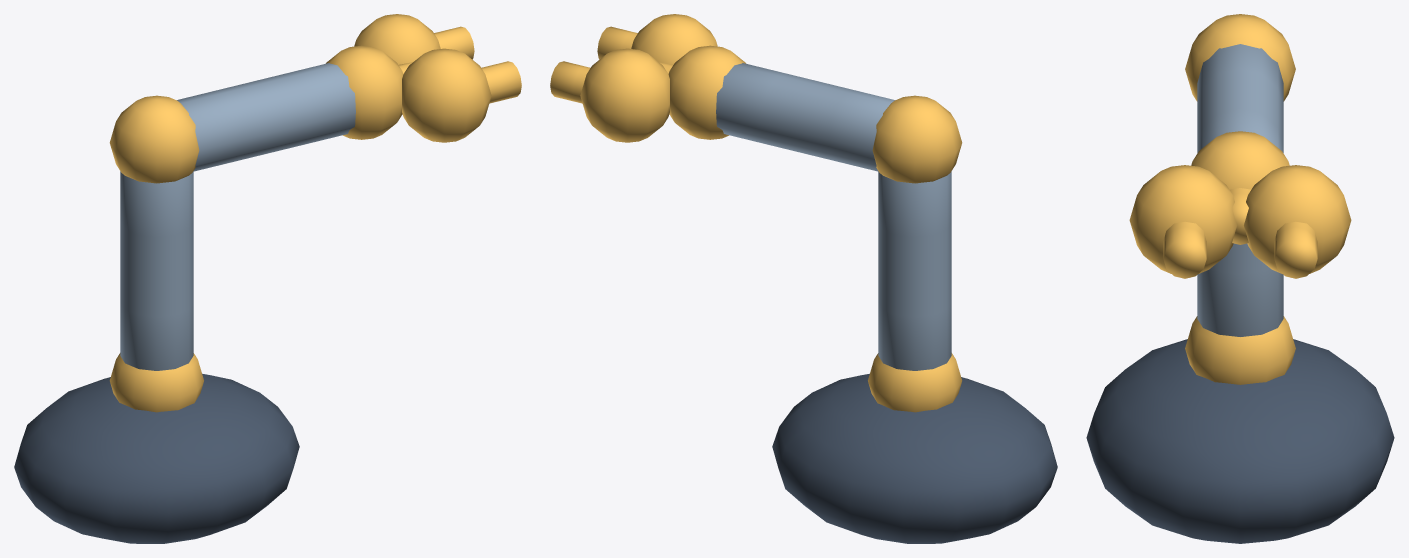
Rendered from demo-robotic-input.glb.
3 renders of one model, left to right at view 1: azimuth 30°, elevation 25°; view 2: azimuth 150°, elevation 25°; view 3: azimuth 270°, elevation 25°, orthographic. The views are drawn at different scales.
Visible parts, largest first — view 1: base-shell, shoulder-shell, elbow-shell, jaw.right-joint, elbow-joint, gripper-joint, shoulder-joint, jaw.left-joint, jaw.right-shell, jaw.left-shell; view 2: base-shell, shoulder-shell, elbow-shell, jaw.left-joint, elbow-joint, gripper-joint, shoulder-joint, jaw.right-joint, jaw.left-shell, jaw.right-shell; view 3: base-shell, elbow-shell, jaw.left-joint, jaw.right-joint, shoulder-shell, shoulder-joint, elbow-joint, gripper-joint, jaw.left-shell, jaw.right-shell, gripper-shell.
Part boxes in pixels (x1=…): base-shell: x1=14, y1=373, x2=299, y2=543; shoulder-shell: x1=120, y1=171, x2=193, y2=370; elbow-shell: x1=177, y1=63, x2=355, y2=171; jaw.right-joint: x1=402, y1=48, x2=491, y2=142; elbow-joint: x1=109, y1=95, x2=199, y2=183; gripper-joint: x1=326, y1=45, x2=403, y2=139; shoulder-joint: x1=109, y1=353, x2=203, y2=412; jaw.left-joint: x1=354, y1=14, x2=440, y2=64; jaw.right-shell: x1=481, y1=61, x2=521, y2=103; jaw.left-shell: x1=434, y1=26, x2=474, y2=59; base-shell: x1=772, y1=373, x2=1057, y2=543; shoulder-shell: x1=878, y1=171, x2=951, y2=370; elbow-shell: x1=716, y1=63, x2=894, y2=171; jaw.left-joint: x1=580, y1=48, x2=669, y2=142; elbow-joint: x1=872, y1=95, x2=962, y2=183; gripper-joint: x1=668, y1=45, x2=745, y2=139; shoulder-joint: x1=868, y1=353, x2=962, y2=412; jaw.right-joint: x1=631, y1=14, x2=717, y2=64; jaw.left-shell: x1=550, y1=61, x2=590, y2=103; jaw.right-shell: x1=597, y1=26, x2=637, y2=59; base-shell: x1=1086, y1=339, x2=1394, y2=543; elbow-shell: x1=1197, y1=44, x2=1283, y2=152; jaw.left-joint: x1=1244, y1=165, x2=1351, y2=273; jaw.right-joint: x1=1129, y1=165, x2=1236, y2=273; shoulder-shell: x1=1197, y1=243, x2=1283, y2=336; shoulder-joint: x1=1185, y1=316, x2=1295, y2=384; elbow-joint: x1=1185, y1=14, x2=1295, y2=101; gripper-joint: x1=1191, y1=131, x2=1289, y2=189; jaw.left-shell: x1=1274, y1=221, x2=1317, y2=278; jaw.right-shell: x1=1163, y1=221, x2=1206, y2=278; gripper-shell: x1=1230, y1=188, x2=1250, y2=244.
Bounding box in the file's own units: 1.01 × 0.89 × 0.5.
